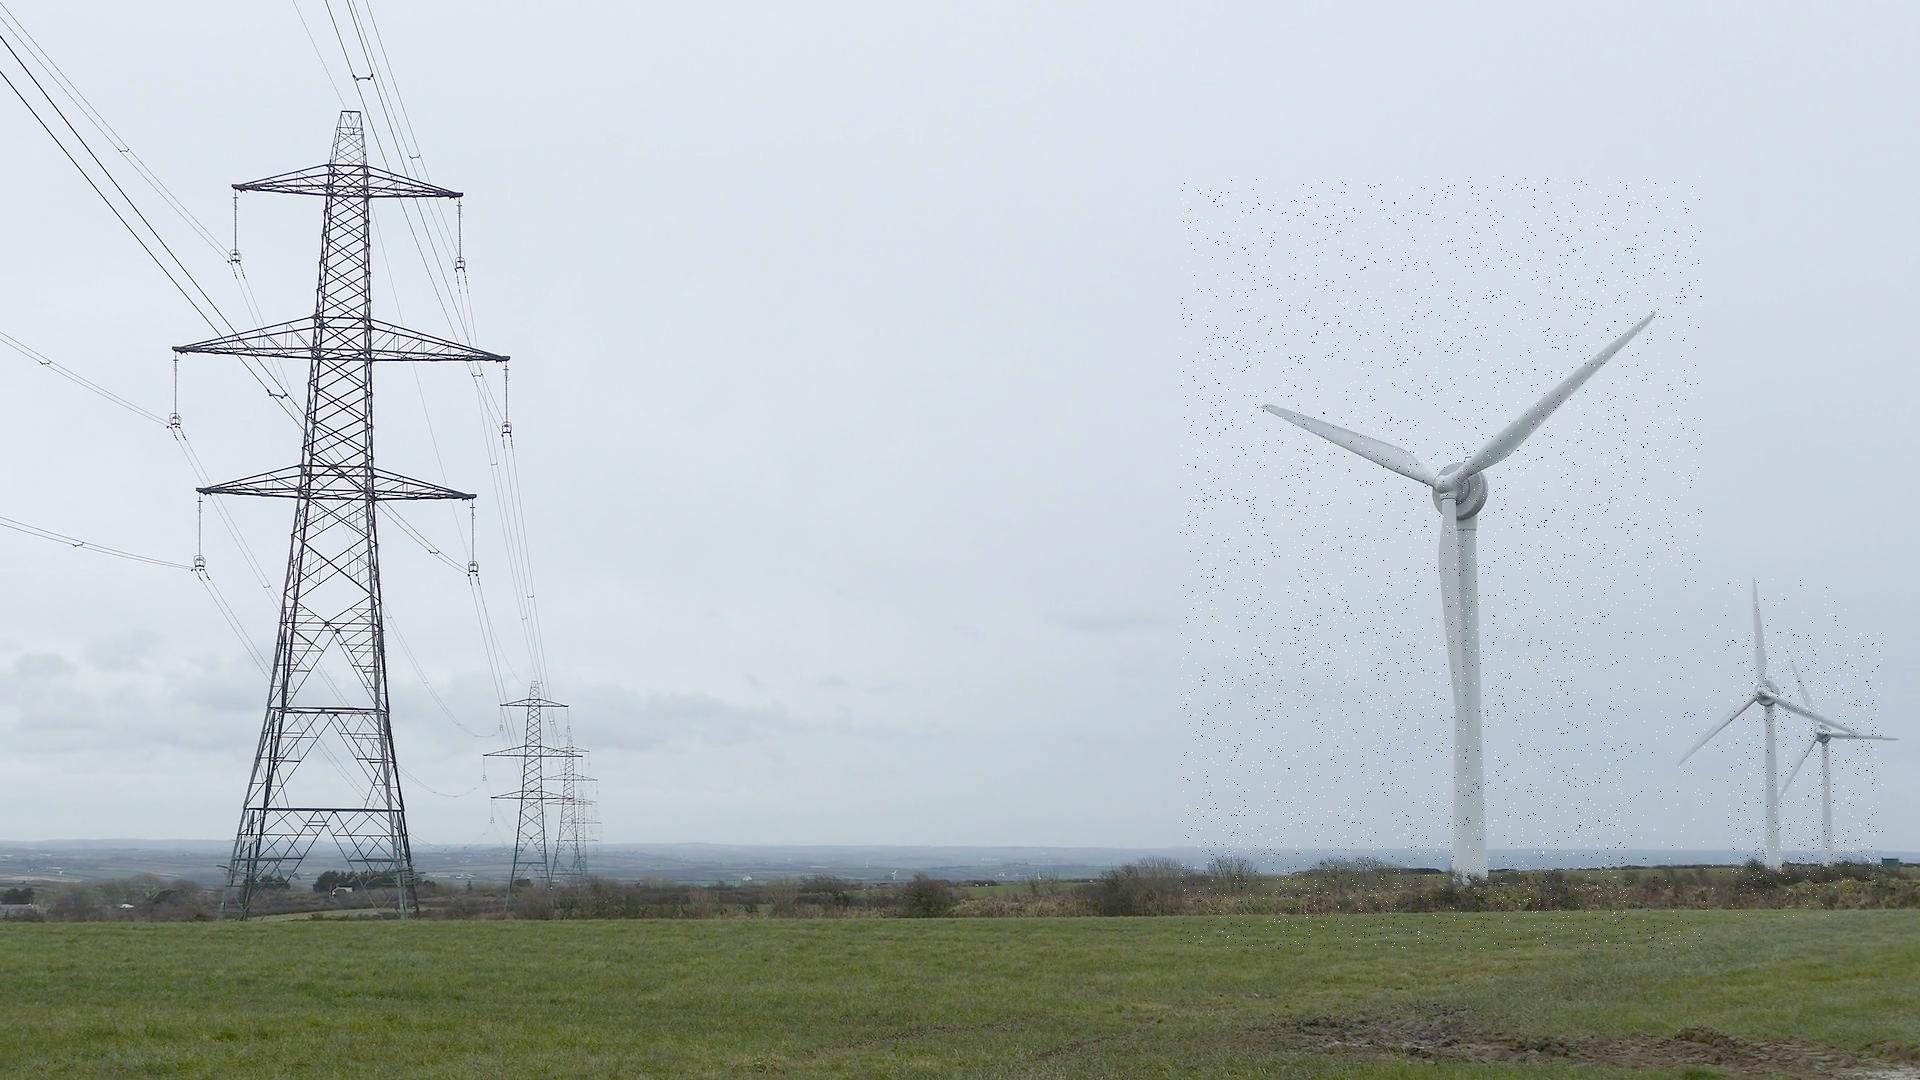cable tower: (167, 108, 514, 930), (481, 680, 583, 915), (541, 732, 597, 901), (558, 793, 603, 891)
turbine: (1180, 175, 1702, 949), (1627, 579, 1857, 918), (1727, 633, 1883, 887)
